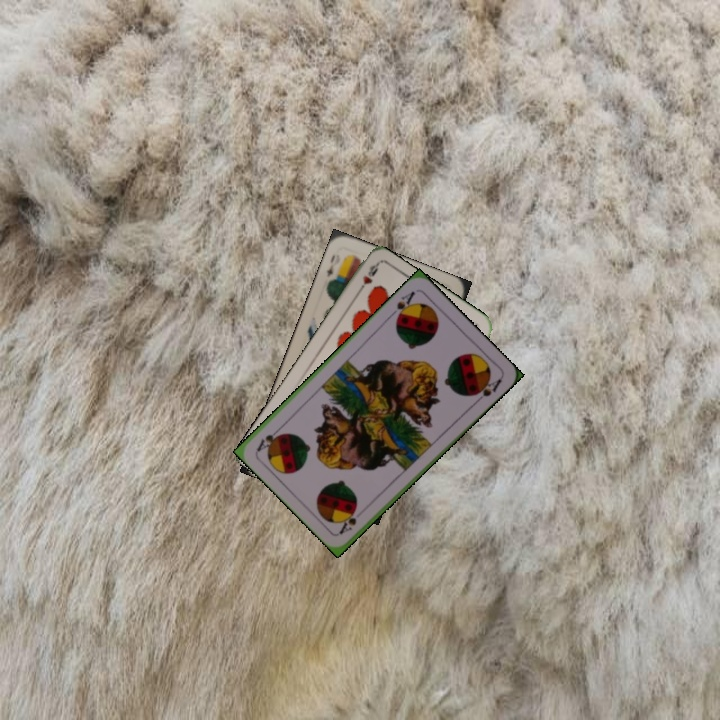EO: (322, 250, 341, 286)
H9: (353, 260, 381, 297)
SA: (386, 287, 418, 323), (335, 506, 359, 537)
